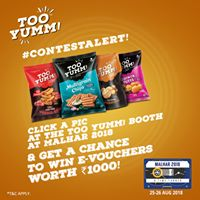plastic: (61, 53, 99, 113), (92, 55, 126, 105), (112, 53, 148, 98), (33, 63, 60, 118)
tooyumm: (11, 6, 67, 43), (64, 60, 88, 79), (33, 70, 60, 86), (97, 61, 117, 78), (119, 57, 136, 70)
wrapper: (26, 67, 112, 116), (89, 52, 149, 101)
